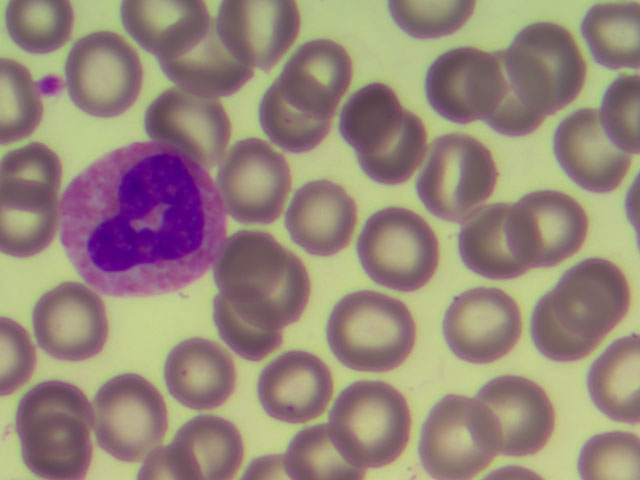Platelets: (35, 71, 69, 98)
RBC: (67, 36, 145, 114), (151, 82, 229, 160), (170, 25, 248, 103), (224, 1, 302, 79), (278, 26, 356, 104), (255, 87, 333, 165), (220, 144, 298, 222), (281, 180, 359, 258), (217, 219, 295, 297), (236, 255, 314, 333), (206, 288, 284, 366), (167, 334, 245, 412), (93, 378, 171, 456), (34, 284, 112, 362), (18, 380, 96, 458), (244, 349, 322, 427), (165, 402, 243, 480), (327, 382, 405, 460), (337, 293, 415, 371), (365, 210, 443, 288), (424, 140, 502, 218), (370, 121, 448, 199), (341, 87, 419, 165), (424, 50, 502, 128), (465, 57, 543, 135), (502, 14, 580, 92), (548, 113, 626, 191), (513, 187, 591, 265), (454, 206, 532, 284), (444, 295, 522, 373), (516, 291, 594, 369), (562, 252, 640, 330), (485, 378, 563, 456), (425, 402, 503, 480), (4, 1, 74, 51)
WBC: (65, 147, 225, 293)
